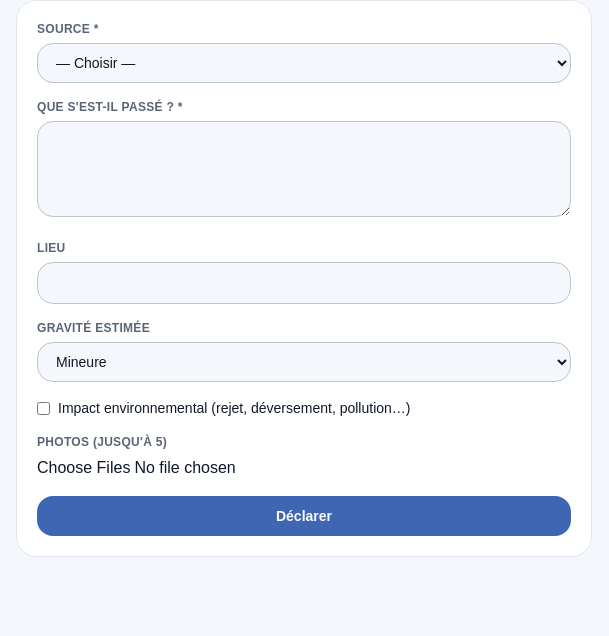
Test: déclaration rapide › exige la source et une description avant tout envoi
Click the button "Déclarer": point(304, 516) x1=37 y1=496 x2=571 y2=536
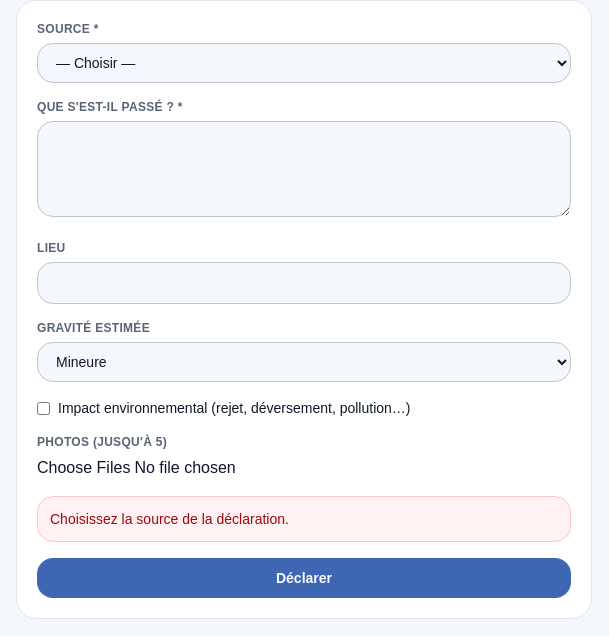
Expected: the message shows "source", x1=50 y1=511 x2=289 y2=527
Select "Incident" in the dropdown labelled "Source *": point(304, 63) x1=37 y1=43 x2=571 y2=83
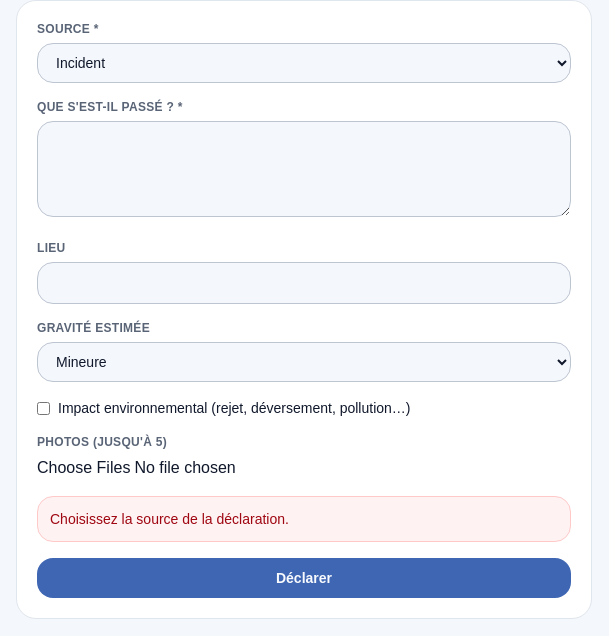
In the text box labelled "Que s'est-il passé ? *": point(304, 169) x1=37 y1=121 x2=571 y2=217, type "court"
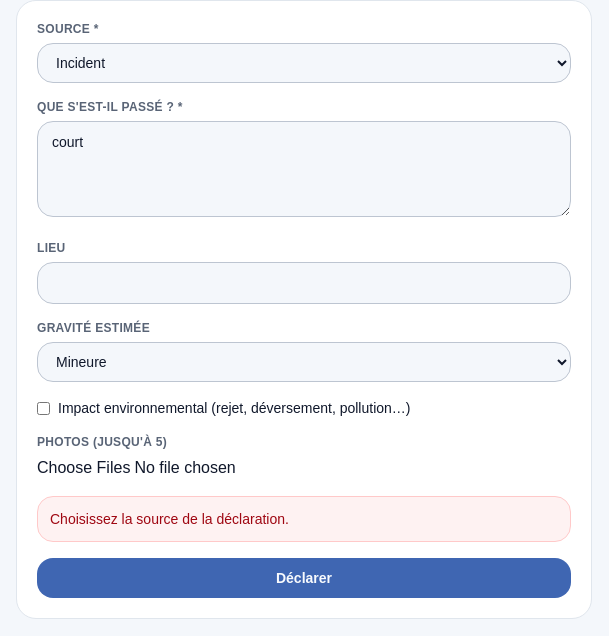
Click the button "Déclarer": point(304, 578) x1=37 y1=558 x2=571 y2=598
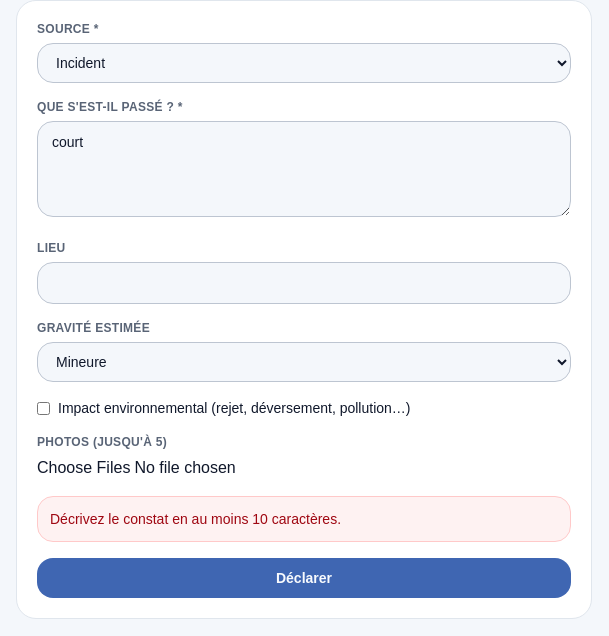
Expected: the message shows "10 caractères", x1=50 y1=511 x2=341 y2=527
